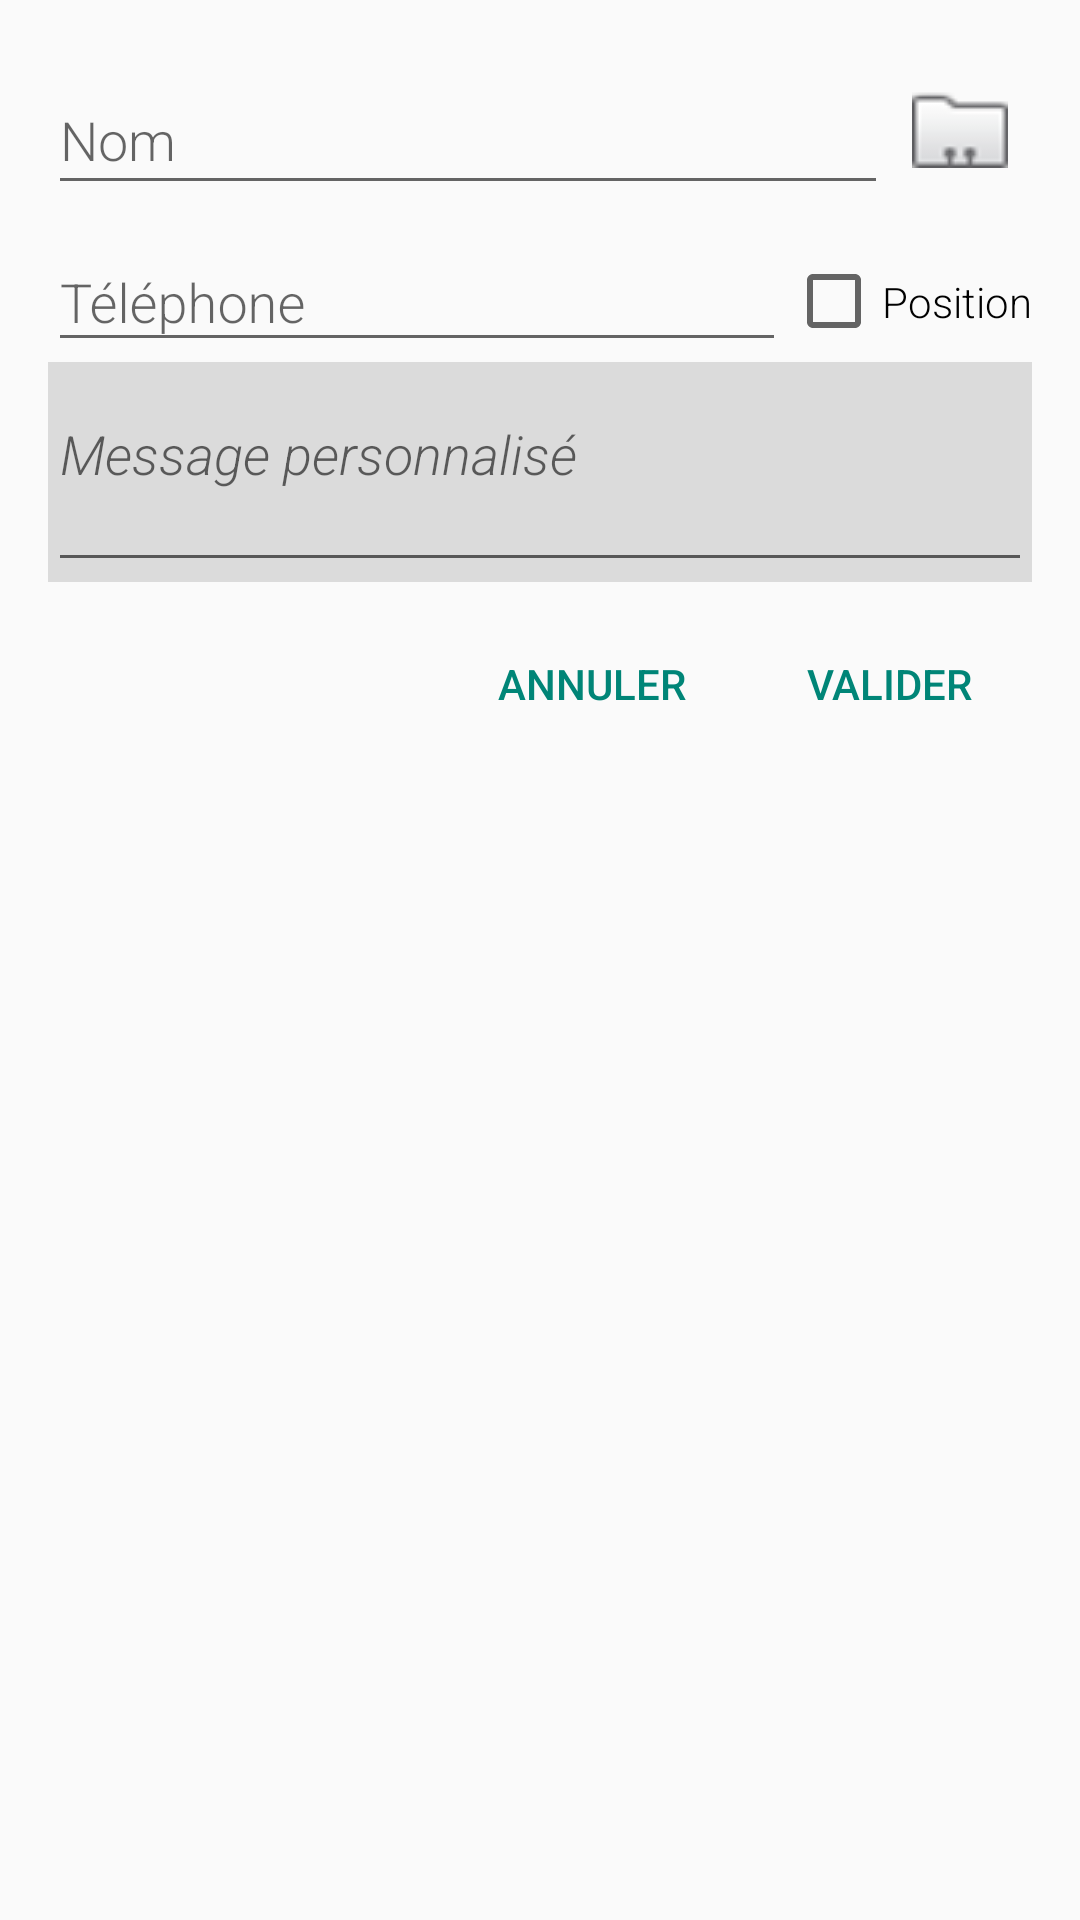

Locate icon controls on the screen. Image size 1080w x 1920h, boxes as {"x1": x1, "y1": y1, "x2": x2, "y2": y2}.
sym contact card: {"x1": 912, "y1": 92, "x2": 1008, "y2": 168}
